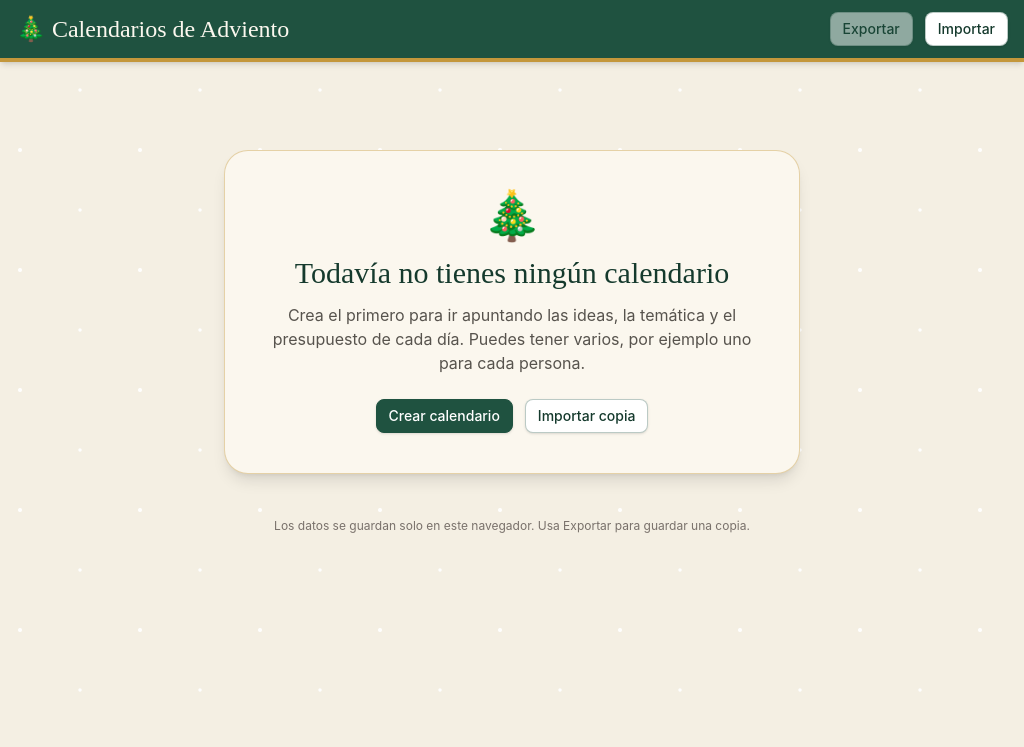
Test: App › puede tener varios calendarios y cambiar entre ellos
Click the button "Crear calendario": (444, 416) top-left (376, 399), bottom-right (513, 433)
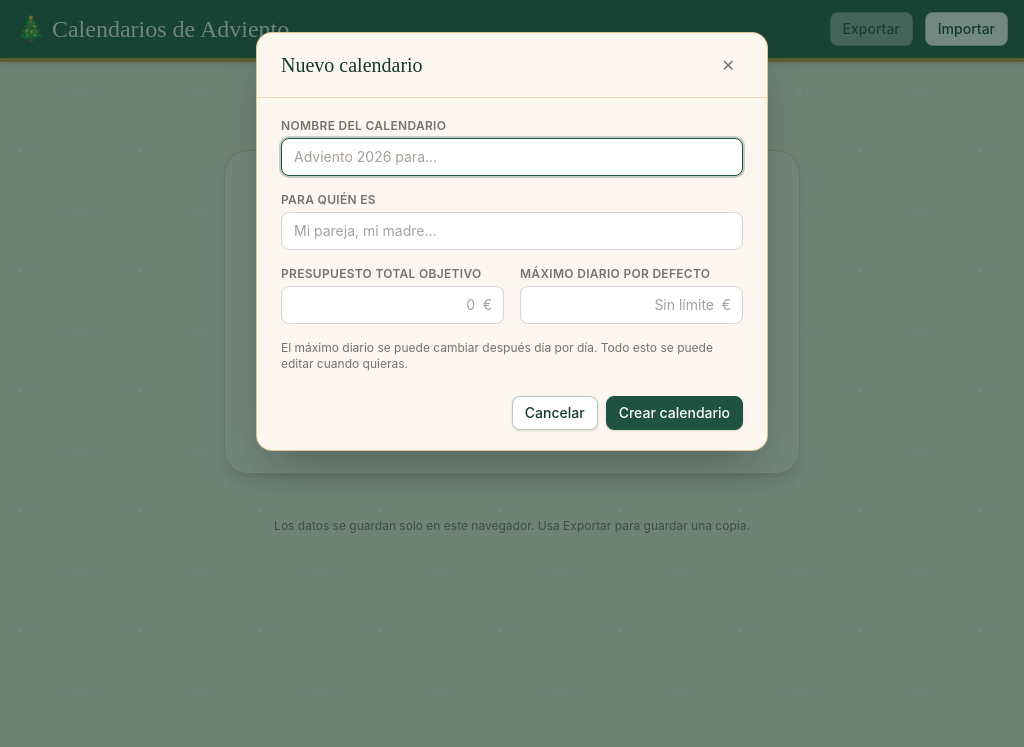
In the field labelled "Nombre del calendario": (512, 157) top-left (281, 138), bottom-right (743, 176), type "Pareja"
In the field labelled "Presupuesto total objetivo": (392, 305) top-left (281, 286), bottom-right (504, 324), type "200"
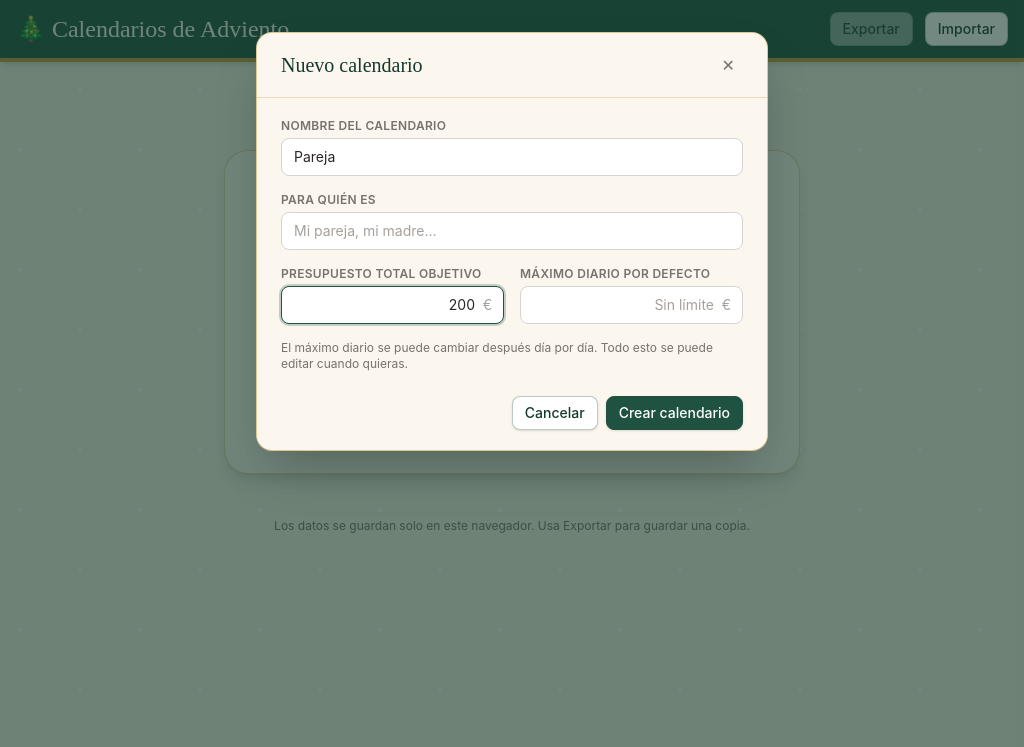
Click the button "Crear calendario": (674, 413) top-left (606, 396), bottom-right (743, 430)
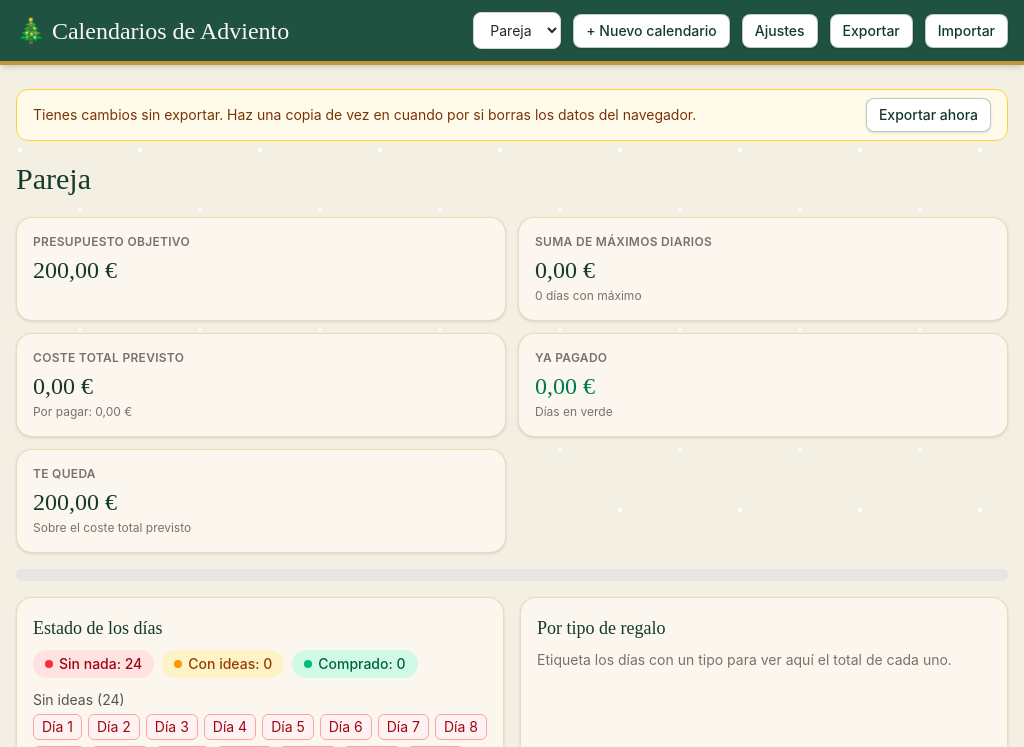
Click the button "+ Nuevo calendario": (652, 30) top-left (573, 14), bottom-right (730, 48)
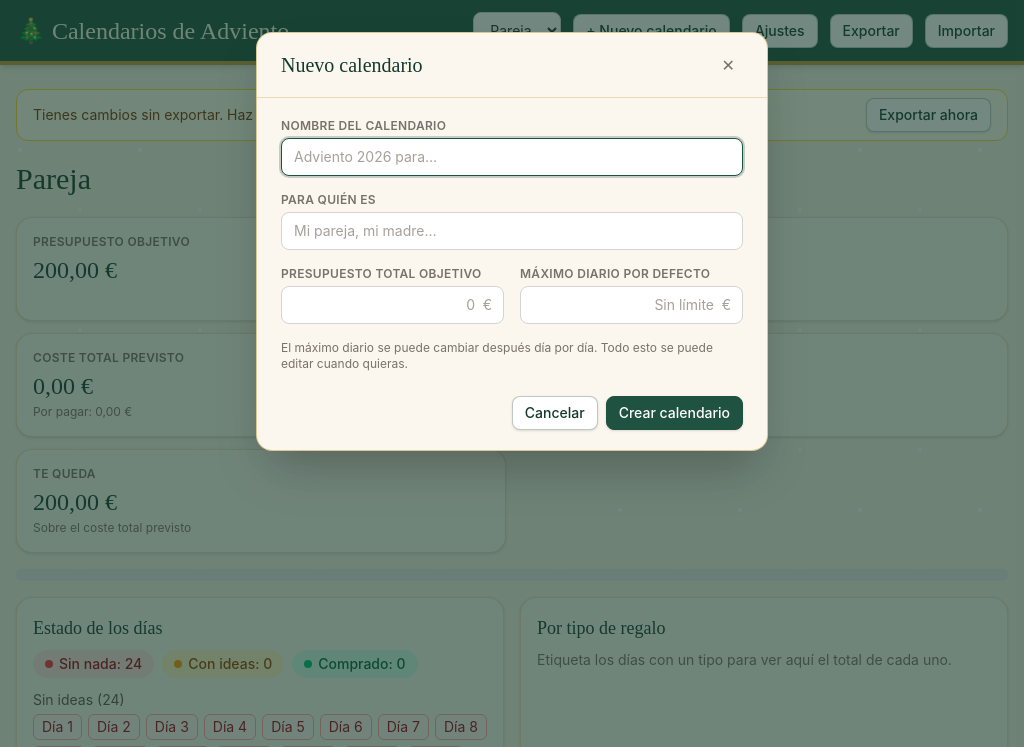
In the field labelled "Nombre del calendario": (512, 157) top-left (281, 138), bottom-right (743, 176), type "Madre"
Click the button "Crear calendario": (674, 413) top-left (606, 396), bottom-right (743, 430)
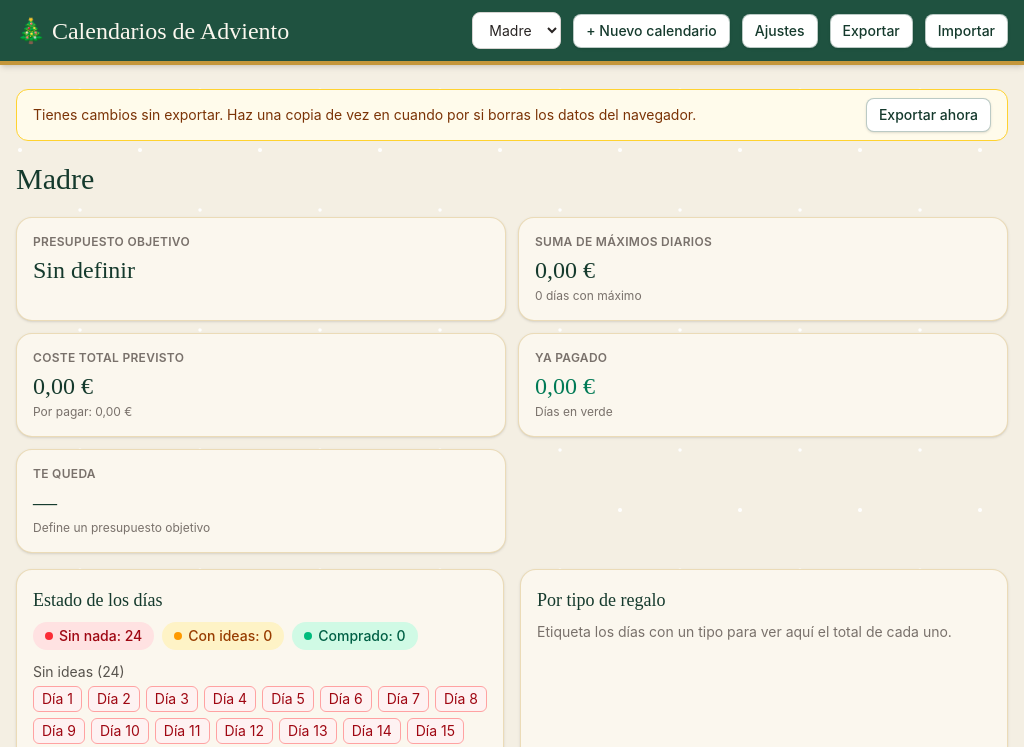
Expected: the heading "Madre" is shown, top-left (16, 162), bottom-right (94, 195)
Select "Pareja" in the dropdown named "Calendario activo": (517, 30) top-left (472, 12), bottom-right (561, 49)
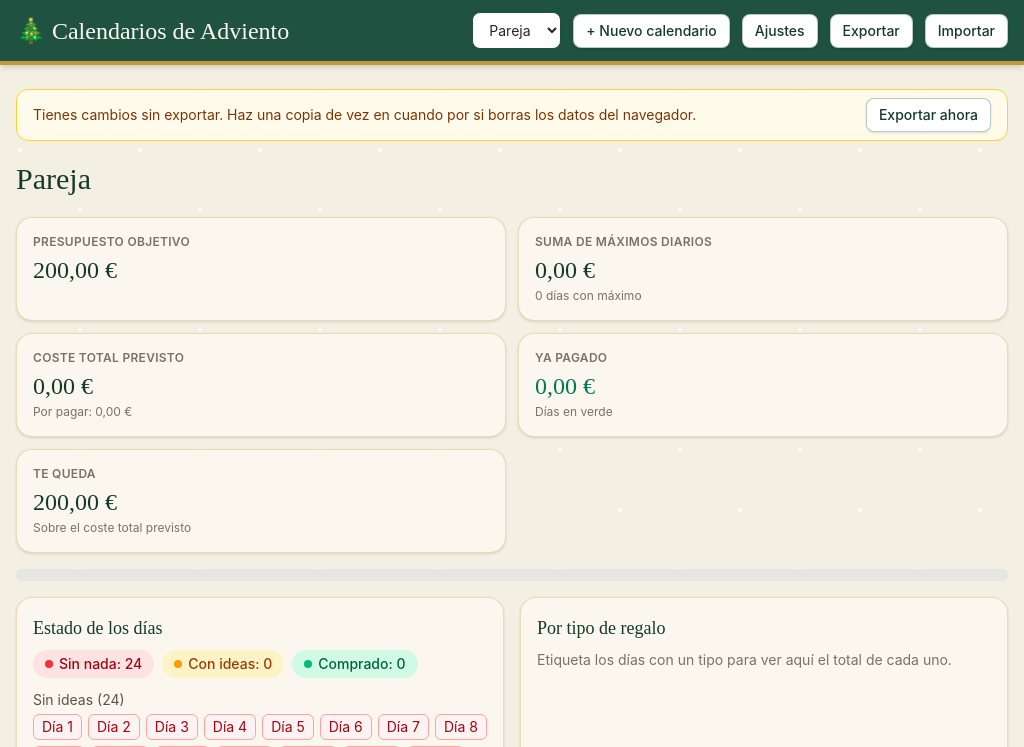
Expected: the heading "Pareja" is shown, top-left (16, 162), bottom-right (91, 195)
